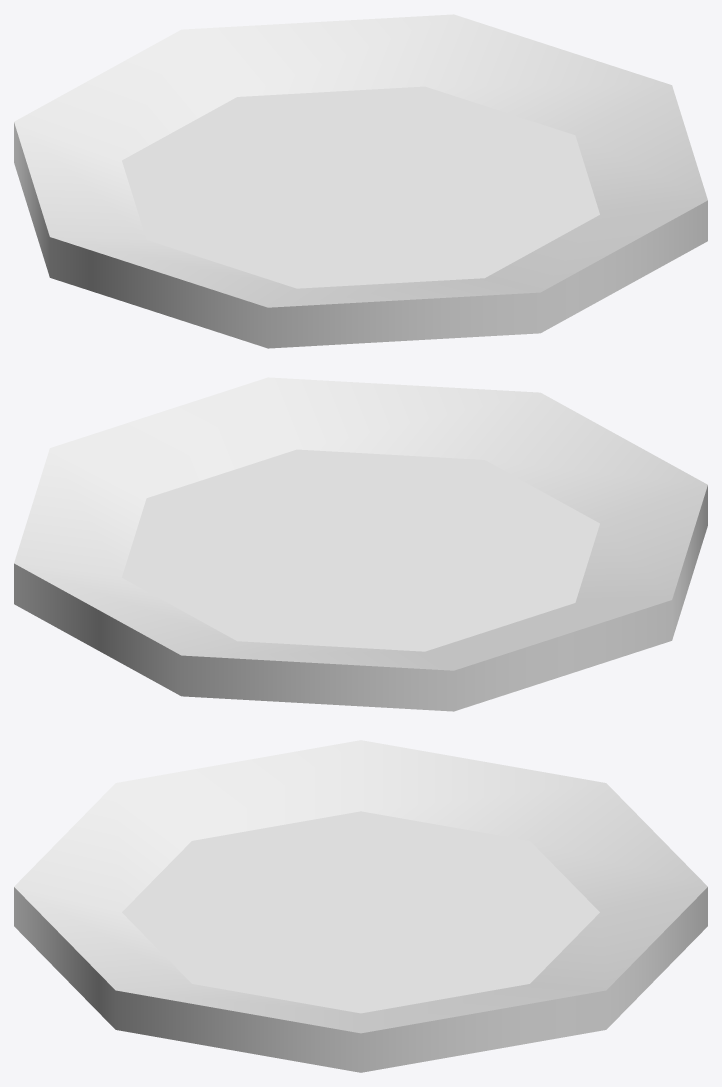
The model's file is Dest_Hall_Table_Dish.FBX.
The picture shows the model from 3 angles, top to bottom: view 1: azimuth 30°, elevation 25°; view 2: azimuth 150°, elevation 25°; view 3: azimuth 270°, elevation 25°; orthographic projection. The views are drawn at different scales.
Parts seen in each view (by area): view 1: Cylinder007; view 2: Cylinder007; view 3: Cylinder007.
Part boxes in pixels (<box>): Cylinder007: <box>14,14,707,348</box>; Cylinder007: <box>14,377,707,711</box>; Cylinder007: <box>14,740,707,1072</box>.
Bounding box in the file's own units: 10.93 × 1.26 × 10.93.
